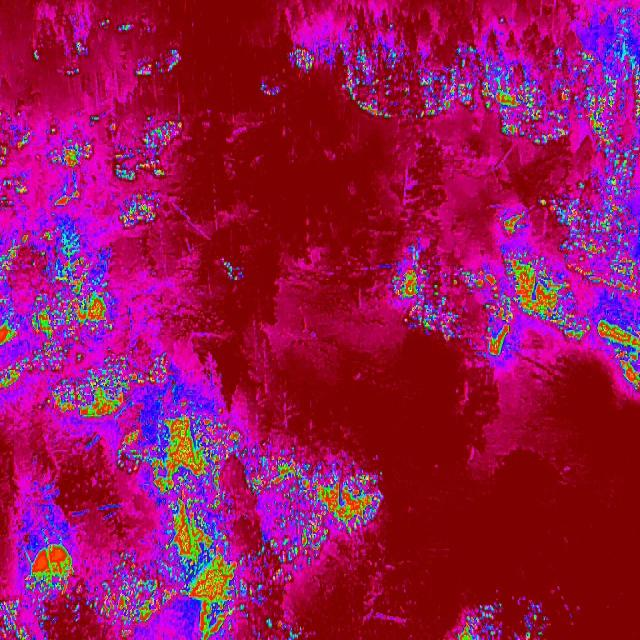fire: (334, 22, 484, 132), (251, 448, 394, 540), (554, 172, 638, 310), (46, 343, 184, 423), (105, 110, 187, 228), (0, 114, 96, 214), (504, 250, 594, 348), (484, 59, 580, 149), (0, 228, 109, 296), (96, 556, 182, 640), (151, 413, 231, 495), (572, 46, 636, 146), (98, 11, 184, 80), (248, 535, 334, 597), (183, 553, 244, 638), (452, 597, 555, 640), (32, 291, 114, 344), (166, 502, 230, 568), (592, 312, 638, 398), (22, 540, 82, 600), (401, 296, 465, 343), (114, 420, 155, 474), (484, 297, 518, 361), (443, 265, 502, 297), (599, 136, 640, 182), (391, 260, 423, 302), (0, 298, 23, 350), (499, 204, 531, 241), (63, 38, 91, 80), (287, 44, 316, 76), (0, 363, 28, 395), (263, 617, 301, 640), (0, 599, 21, 640), (218, 257, 246, 282), (261, 78, 282, 98), (32, 44, 40, 65), (538, 196, 549, 208)
